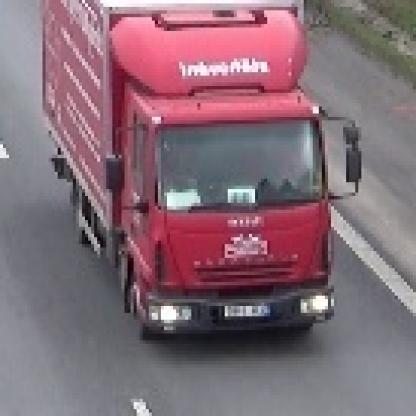truck: (37, 1, 362, 341)
